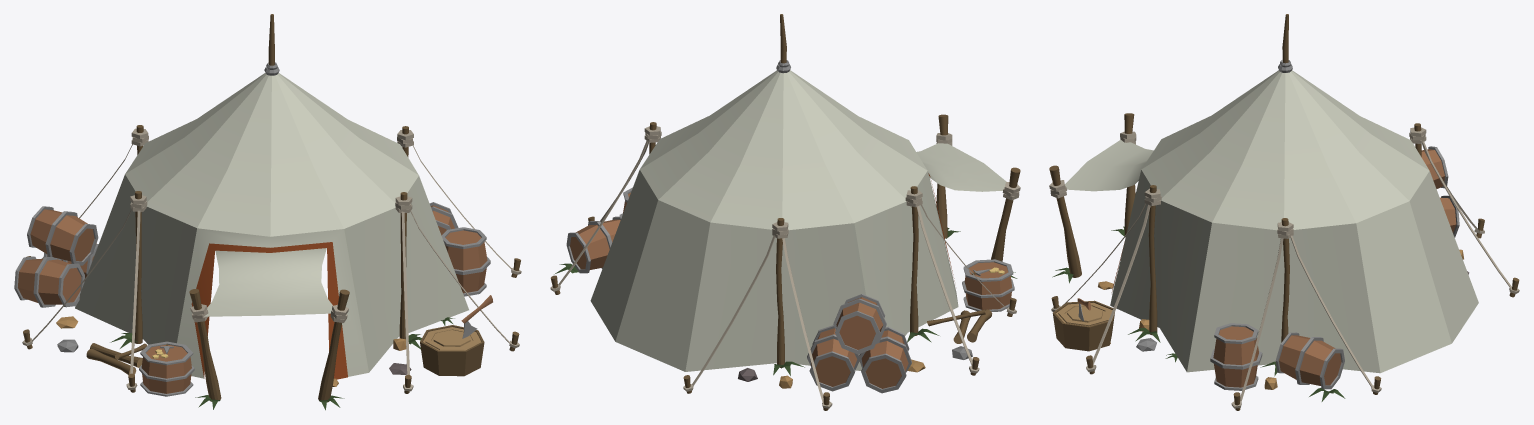
Rendered from marquee.glb.
3 views of the same model, side by side, from view 1: azimuth 30°, elevation 25°; view 2: azimuth 150°, elevation 25°; view 3: azimuth 270°, elevation 25° (orthographic). The views are drawn at different scales.
Parts seen in each view (by area): view 1: marquee 1; view 2: marquee 1; view 3: marquee 1.
Part boxes in pixels (left/top/right/bottom): marquee 1: left=14, top=14, right=521, bottom=410; marquee 1: left=550, top=14, right=1020, bottom=410; marquee 1: left=1049, top=14, right=1519, bottom=410.
Size of the model in its own units: 3.83 by 2.43 by 3.55.
